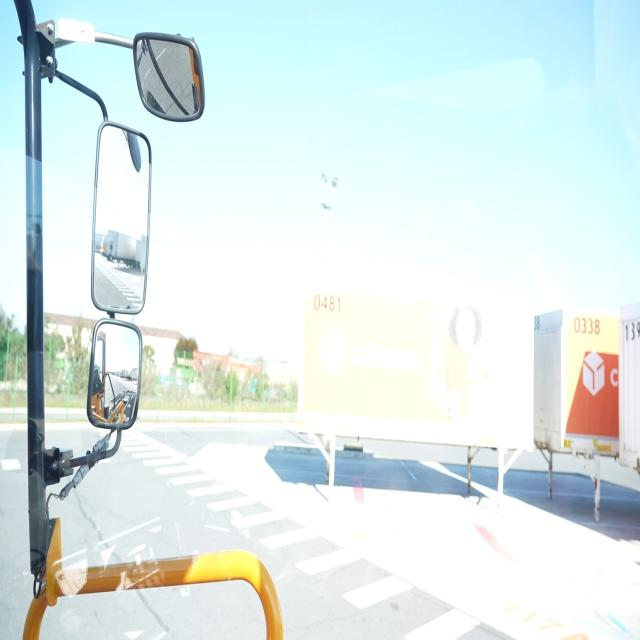Code: (312, 291, 346, 318), (572, 312, 601, 340)
